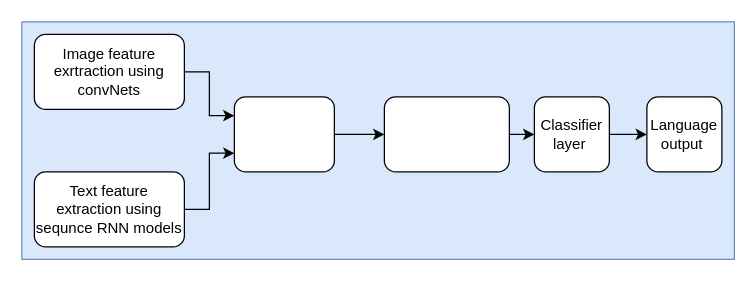
Image size: 756x291. Some labels were removed from this diagram. The shapes that lost their labels are listed below. From the top down, each one's centre as x and y in pixels, then its label:
At [283,134]: "Concatenate the features".
At [446,134]: "RNN layers for generating the features".
